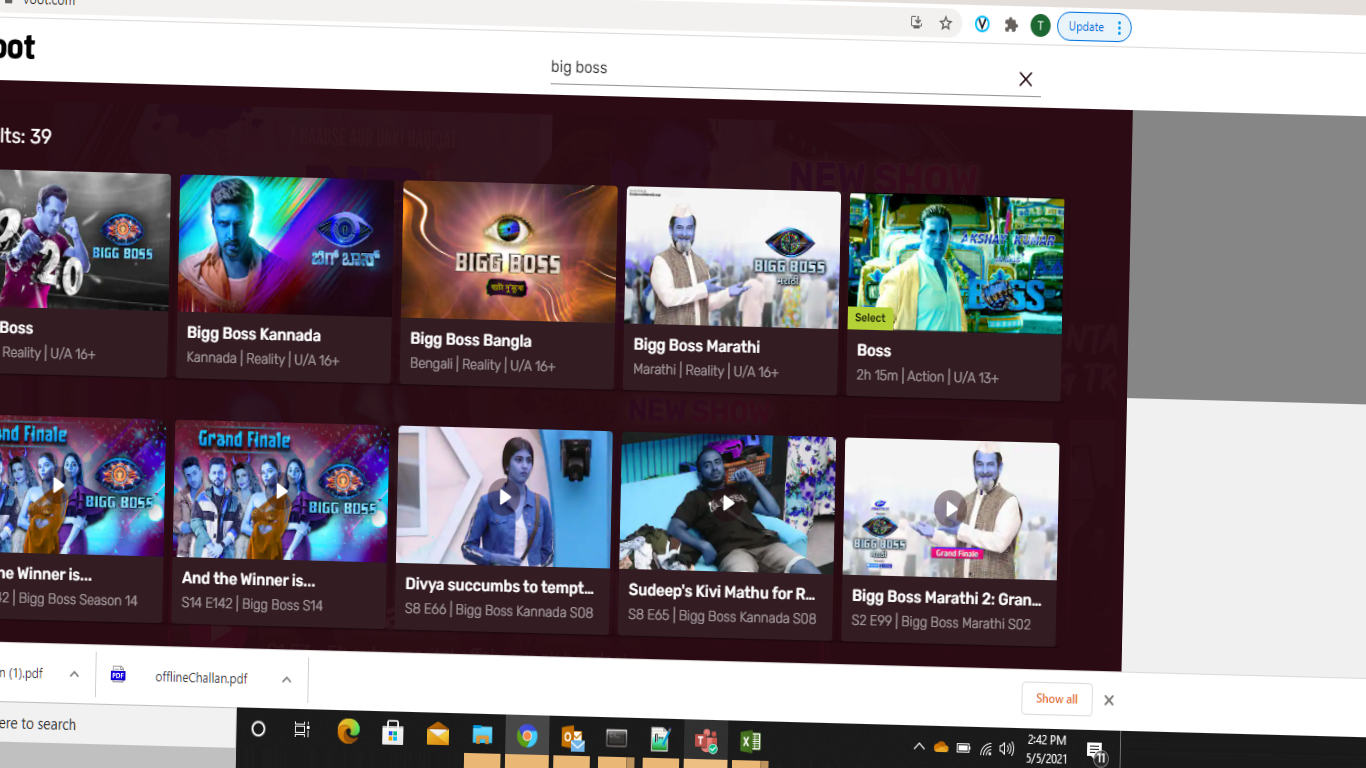resultsfound: (1, 123, 74, 167)
searchtextbox: (535, 40, 1040, 103)
